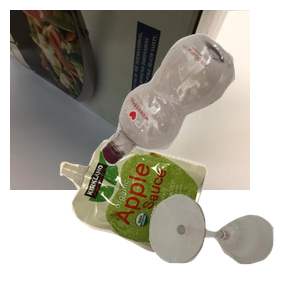cardboard: (10, 10, 250, 190)
glass: (147, 192, 300, 300)
plastic: (99, 31, 300, 189)
trash: (57, 137, 257, 300)
